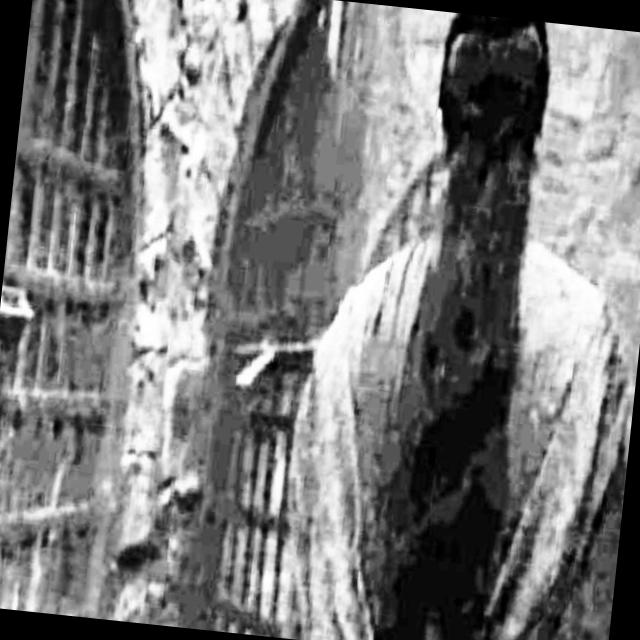Person: (263, 0, 640, 640)
